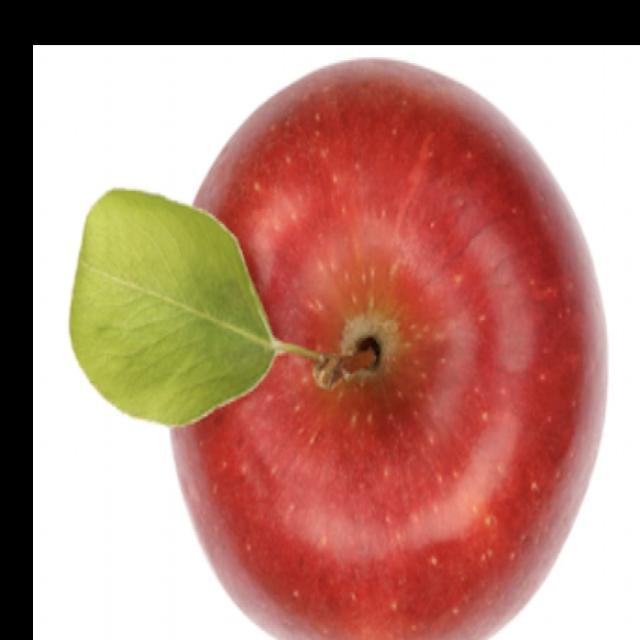Fresh Apple: (142, 54, 609, 640)
